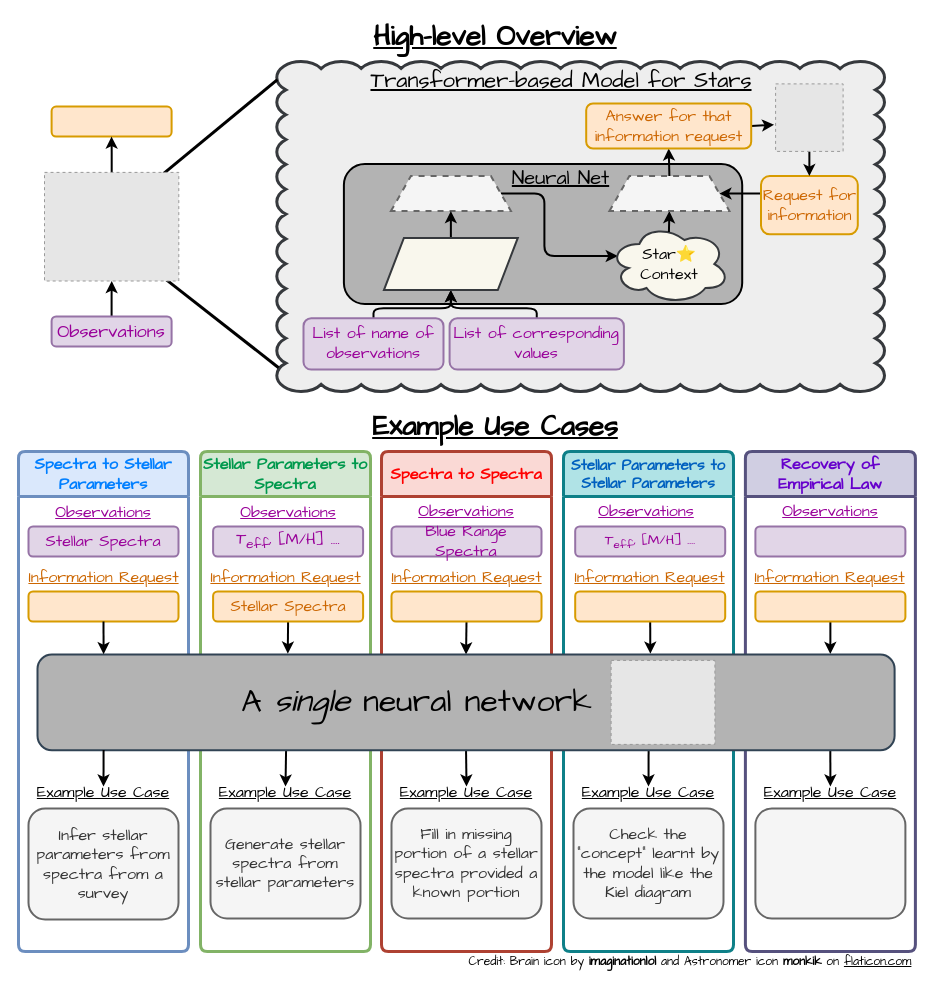
This 934x986 diagram has some shape labels left out. Grey dashed boxes stand in for pictures. Each missing label, with the centre of its shape:
"Decoder" goes at point (669, 193).
"E(B-V), T eff , logg...." goes at point (830, 541).
"Encoder" goes at point (450, 193).
"Extract data-driven extinction curve learnt by the model" goes at point (830, 863).
"Information" goes at point (111, 121).
"log(g) ..." goes at point (650, 606).
"Luminosity,Spectra" goes at point (830, 606).
"Non-linear embedding" goes at point (450, 263).
"Red Range Spectra" goes at point (466, 606).
"T eff , [M/H]" goes at point (103, 606).
